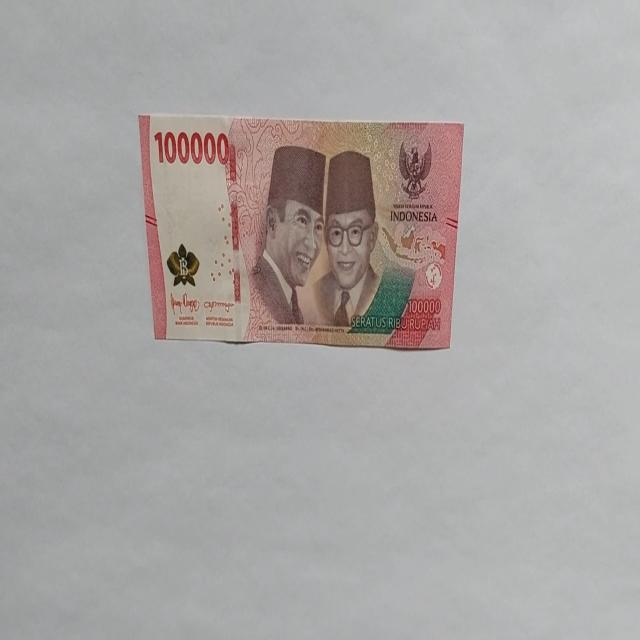seratus ribu rupiah: (138, 112, 464, 350)
